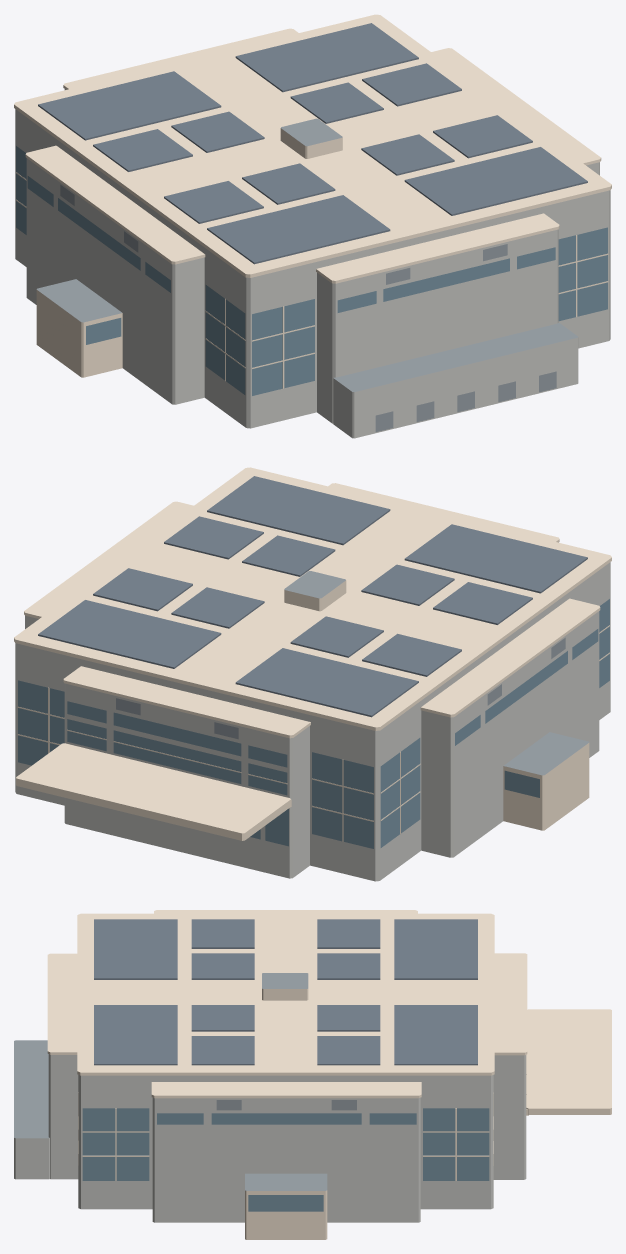
Rendered from slc-delta-center.glb.
3 renders of one model, top to bottom at view 1: azimuth 30°, elevation 25°; view 2: azimuth 150°, elevation 25°; view 3: azimuth 270°, elevation 25°, orthographic. The views are drawn at different scales.
Visible parts, largest first — view 1: Delta Center; view 2: Delta Center; view 3: Delta Center.
Boxes of the visible parts, x1,y1,x2,y2 form: Delta Center: (14, 14, 611, 438); Delta Center: (14, 467, 611, 881); Delta Center: (14, 910, 611, 1239).
Bounding box in the file's own units: 149 × 47 × 171.
